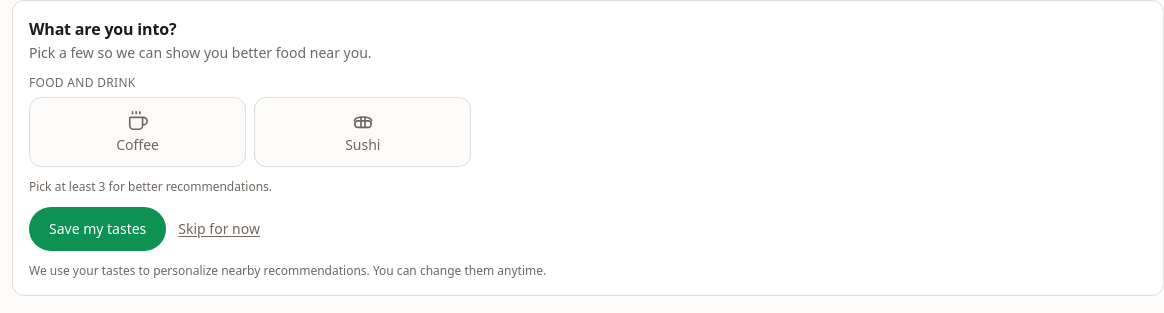
it: skipping › does not block anything
Click the button "Skip for now" at (219, 228), box [178,206,260,250]
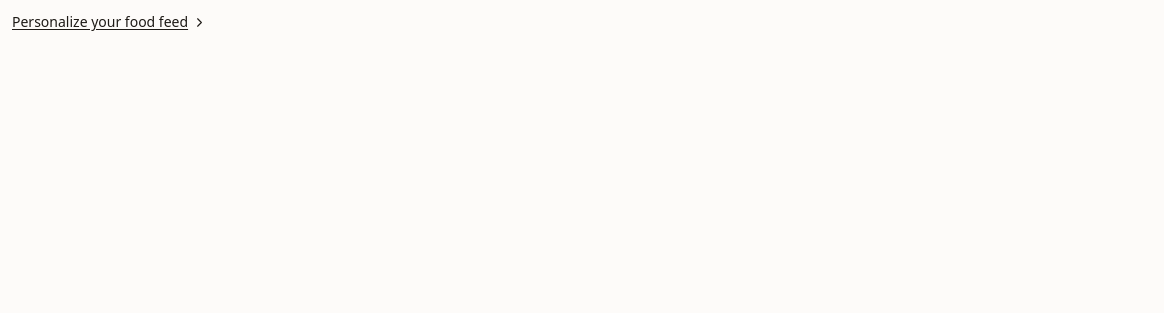
Expected: the heading "What are you into?" is gone
